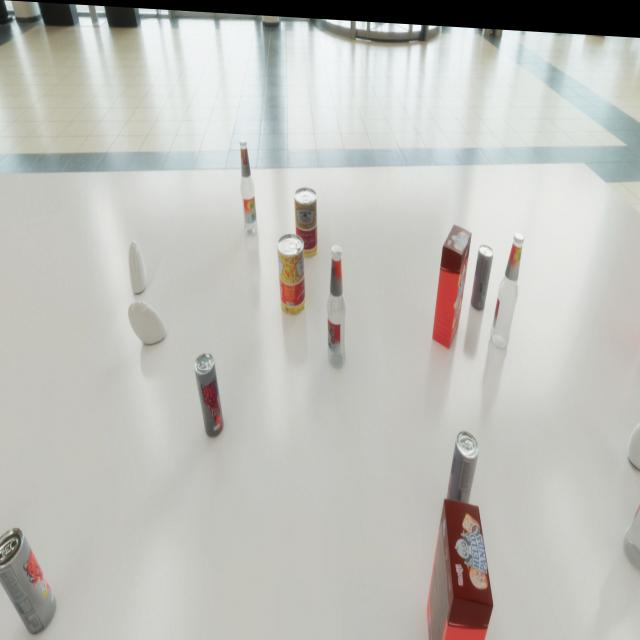Bottle: (490, 225, 524, 344), (623, 413, 640, 564), (327, 241, 346, 364), (239, 136, 258, 233)
HelloPanda: (427, 492, 493, 640), (432, 218, 472, 344)
Potato_sticks: (277, 230, 306, 313), (294, 183, 318, 255)
Rita_zero_sugar: (0, 527, 56, 635), (446, 424, 479, 518), (194, 350, 224, 436), (471, 238, 494, 306)
Salt: (128, 298, 166, 343), (128, 238, 146, 292), (627, 411, 640, 462)
